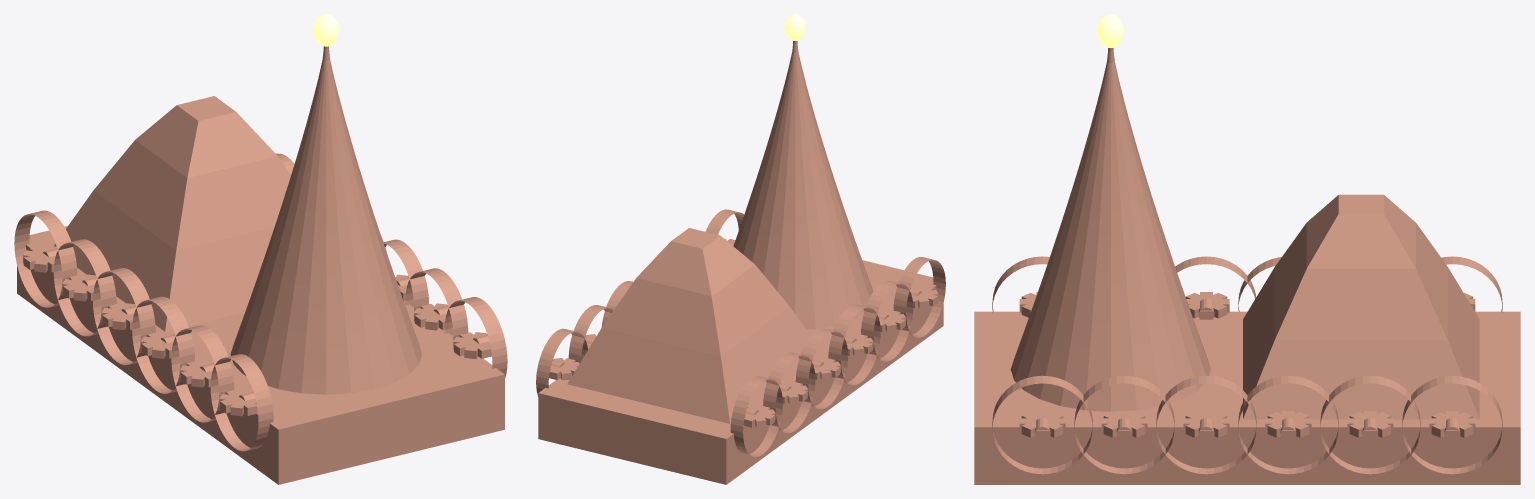
The model's file is sun_temple_s4.glb.
The picture shows the model from 3 angles, left to right: view 1: azimuth 30°, elevation 25°; view 2: azimuth 150°, elevation 25°; view 3: azimuth 270°, elevation 25°; orthographic projection. The views are drawn at different scales.
Parts seen in each view (by area): view 1: sun_temple; view 2: sun_temple; view 3: sun_temple.
Boxes of the visible parts, x1,y1,x2,y2 form: sun_temple: (14,14,507,484); sun_temple: (536,14,945,484); sun_temple: (974,14,1520,484).
Bounding box in the file's own units: 7.22 × 10 × 12.01.
